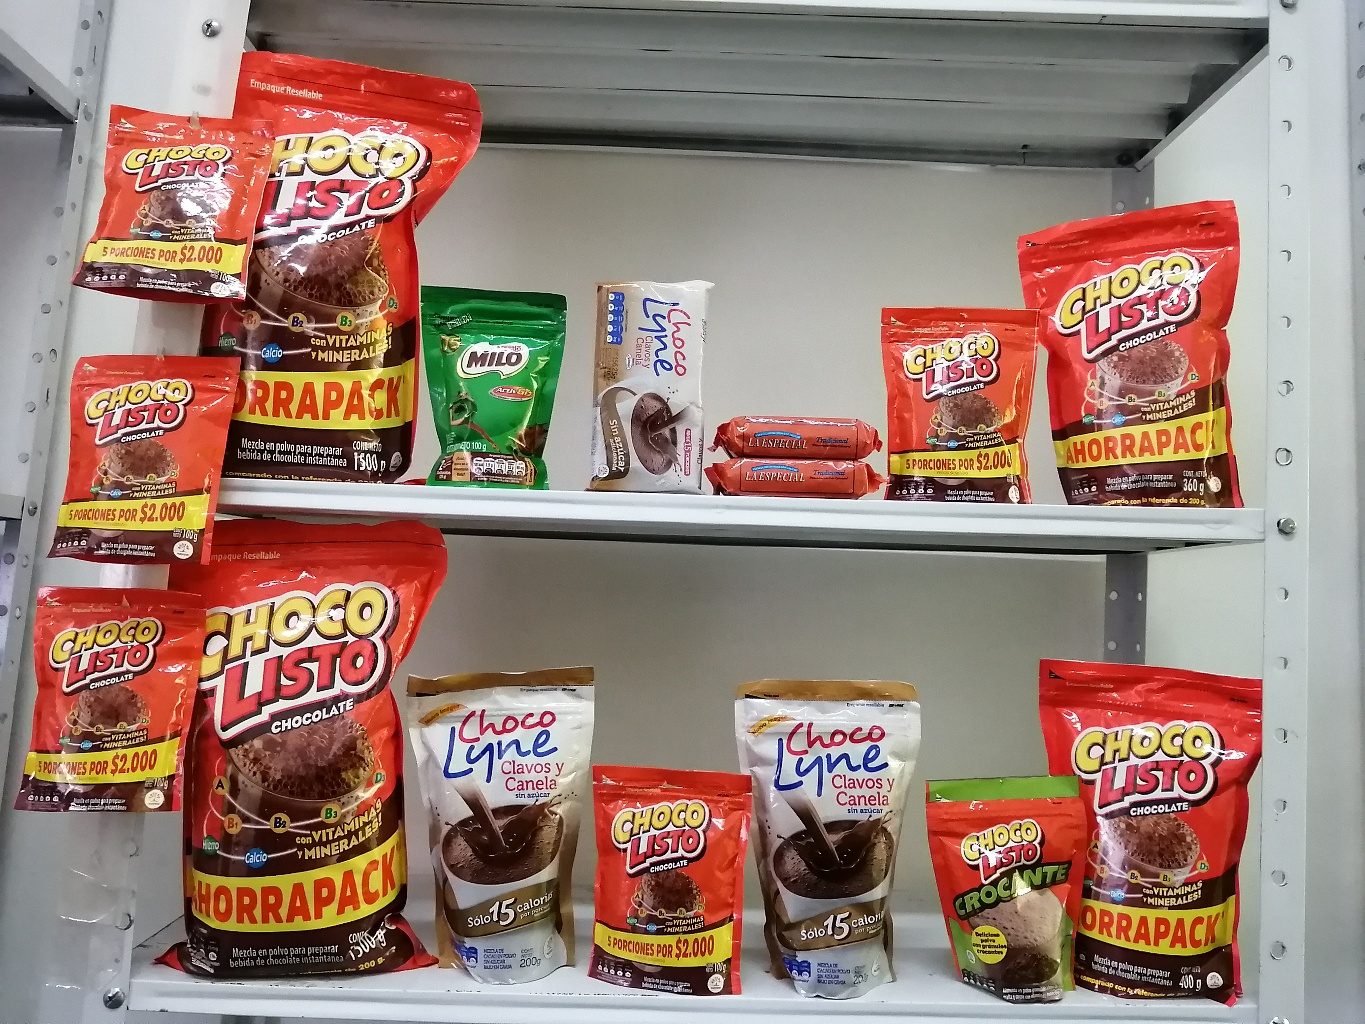COL0170102DYP10000: (915, 776, 1084, 1004)
COL0170103DYP1,500: (221, 37, 484, 474)
COL0170103DYP10000: (885, 301, 1042, 511)
COL0170103DYP36000: (1016, 199, 1246, 509)
COL0170103DYP40000: (1040, 643, 1260, 1001)
COL0170203DYP10000: (421, 274, 568, 479)
